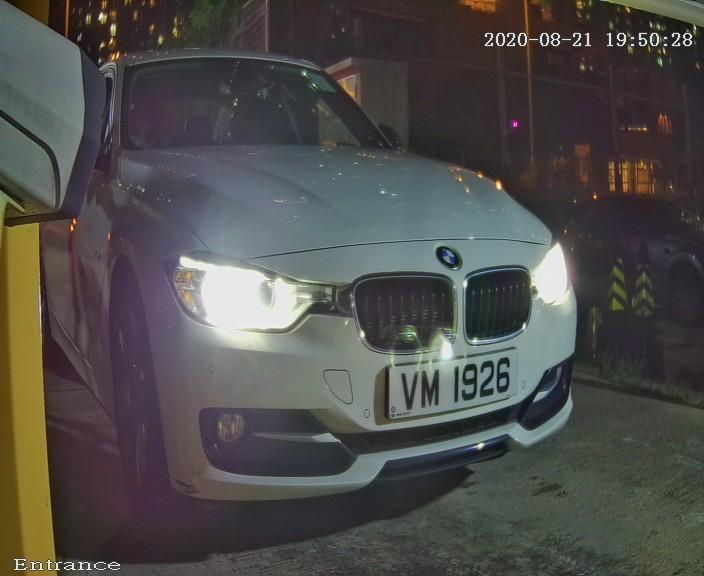Car: (41, 6, 635, 546)
License Plate: (355, 337, 535, 443)
